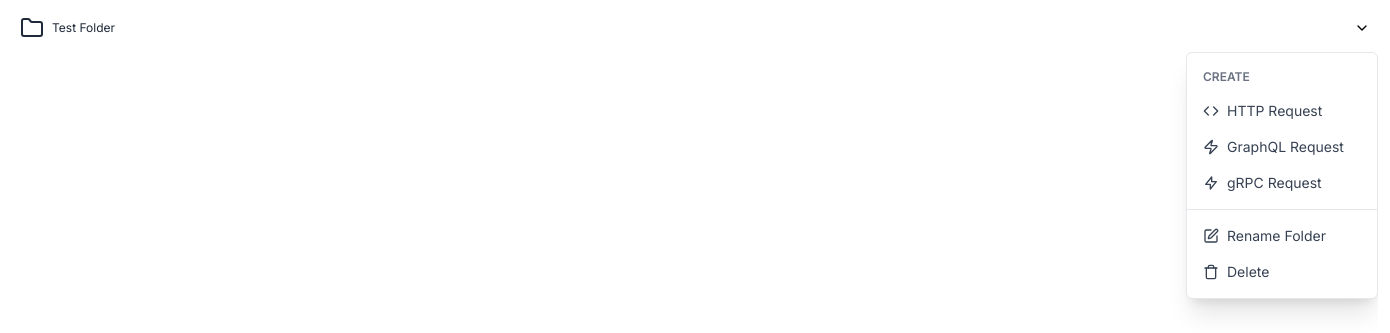
FolderComponent › Folder renaming › should show rename input when rename is clicked
Click the button "Rename Folder".
click(1282, 236)  # box [1187,218,1377,254]
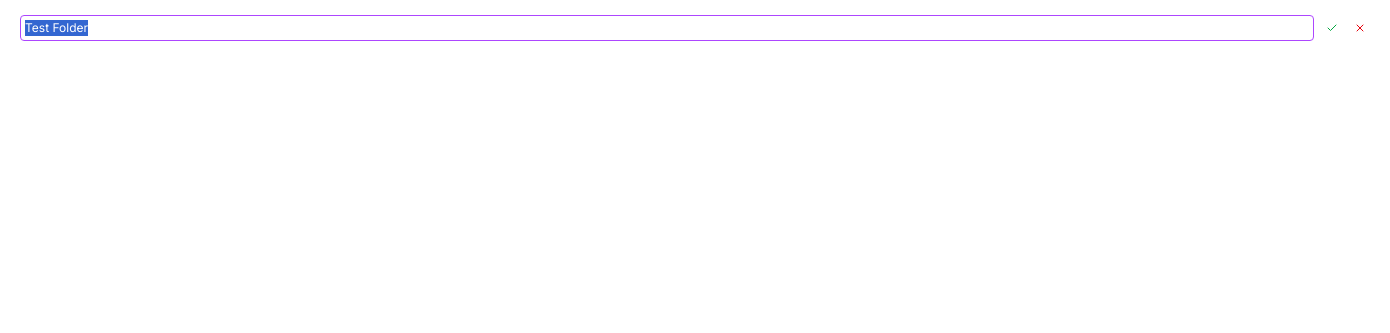
Expected: the field showing "Test Folder" is shown, [20,15,1314,41]
